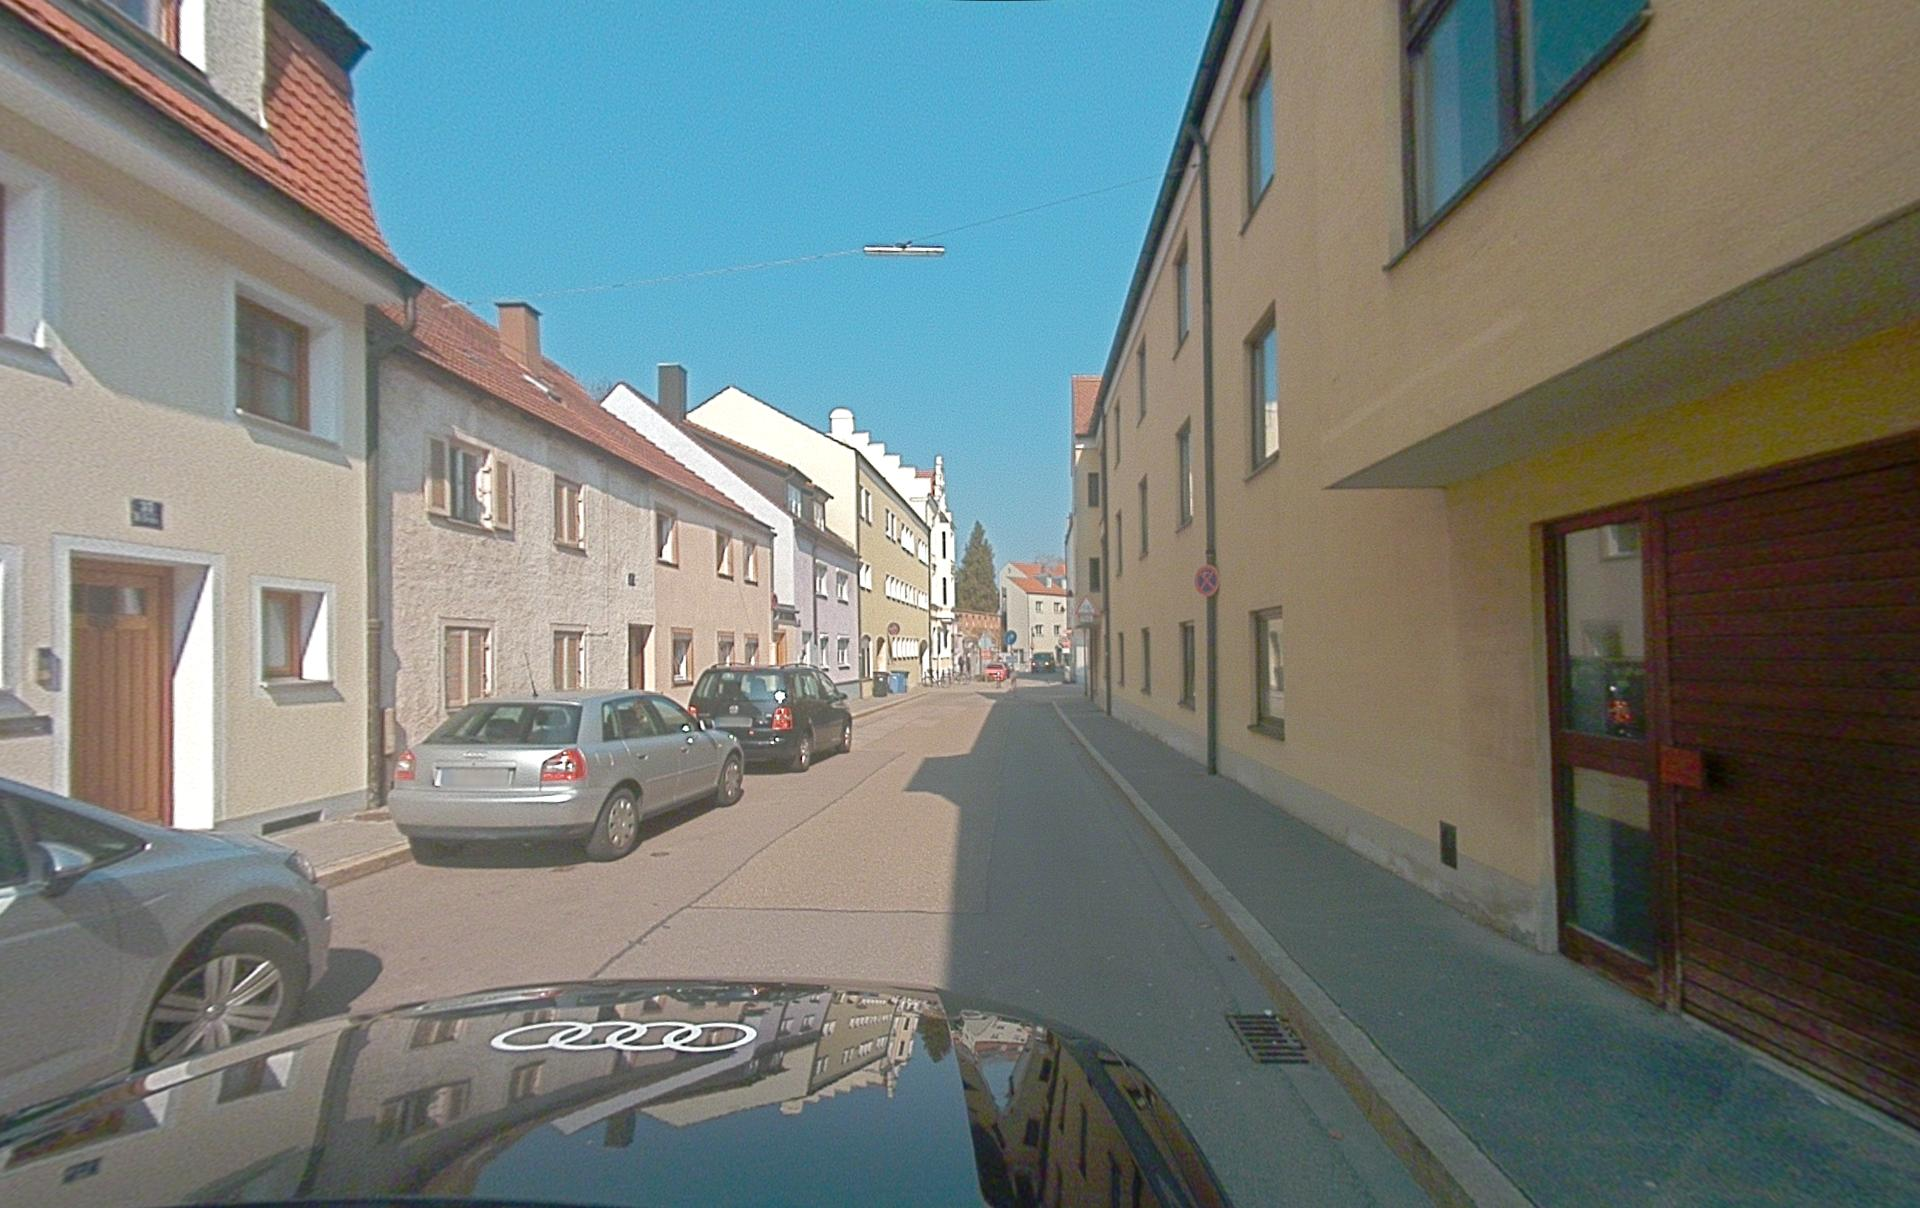car: (1, 976, 1237, 1208), (0, 775, 333, 1122), (388, 689, 746, 861), (686, 662, 853, 772), (1032, 653, 1056, 672), (985, 662, 1007, 682)
traffic sign: (863, 244, 946, 257)
